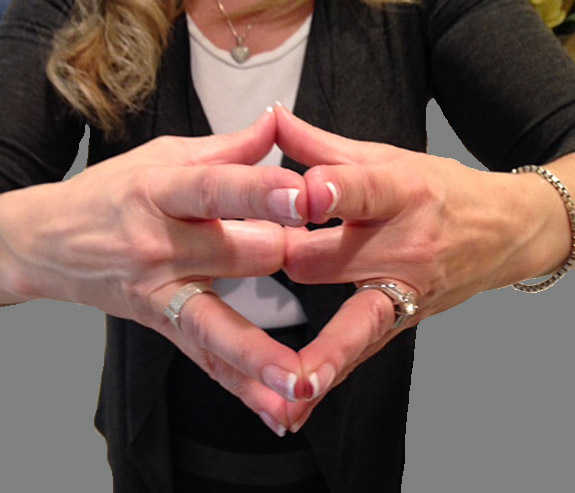finger: (150, 281, 307, 406), (155, 164, 309, 231), (305, 287, 392, 401), (182, 346, 291, 435), (285, 227, 414, 283), (161, 224, 283, 276), (303, 158, 398, 221)
